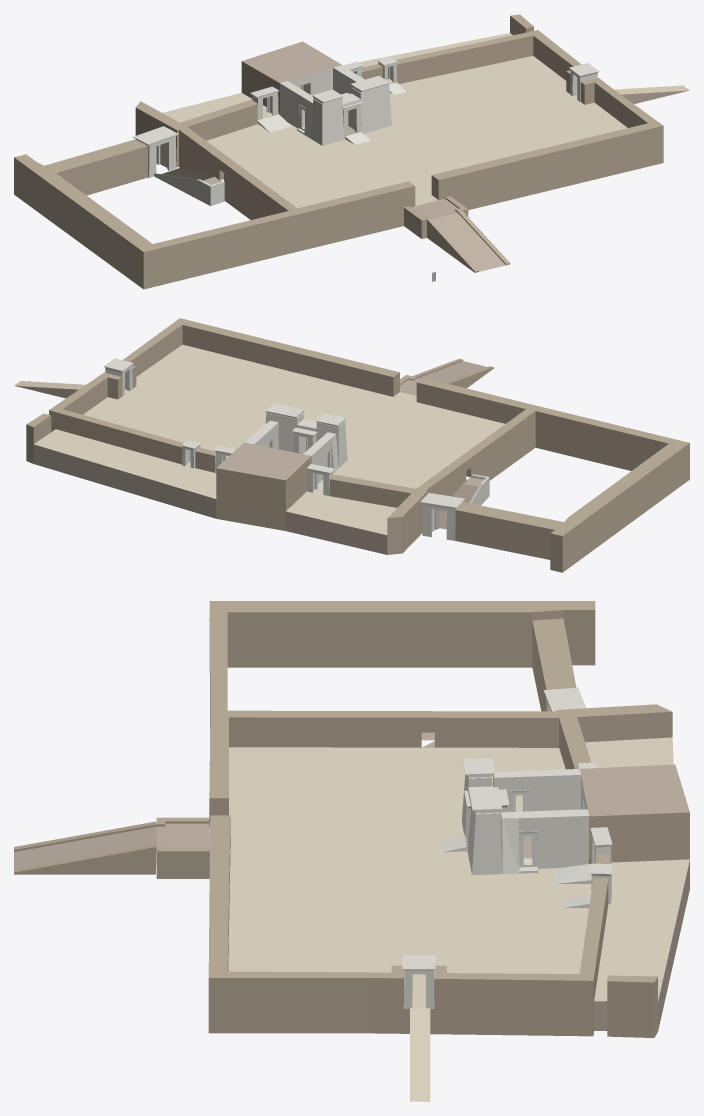
The model's file is SAN2.glb.
The picture shows the model from 3 angles, top to bottom: view 1: azimuth 30°, elevation 25°; view 2: azimuth 150°, elevation 25°; view 3: azimuth 270°, elevation 25°; orthographic projection. The views are drawn at different scales.
Parts seen in each view (by area): view 1: Mesh15 Model, Mesh5 Component_1_1 Model, Mesh13 Component_5_1 Model, Mesh3 Gate2_2_1 Model, Mesh12 Component_5_1 Model, Mesh14 Gate2_3_5 Model, Mesh2 Gate2_1_1 Model, Mesh6 Gate2_3_2 Model; view 2: Mesh15 Model, Mesh3 Gate2_2_1 Model, Mesh5 Component_1_1 Model, Mesh12 Component_5_1 Model, Mesh13 Component_5_1 Model, Mesh14 Gate2_3_5 Model, Mesh2 Gate2_1_1 Model, Mesh6 Gate2_3_2 Model; view 3: Mesh15 Model, Mesh12 Component_5_1 Model, Mesh14 Gate2_3_5 Model, Mesh3 Gate2_2_1 Model, Mesh10 Component_4_1 Component_5_1 Model.
Boxes of the visible parts, left/top/right/bottom form: Mesh15 Model: left=14, top=14, right=689, bottom=289; Mesh5 Component_1_1 Model: left=154, top=168, right=224, bottom=206; Mesh13 Component_5_1 Model: left=310, top=99, right=343, bottom=145; Mesh3 Gate2_2_1 Model: left=133, top=126, right=178, bottom=177; Mesh12 Component_5_1 Model: left=351, top=85, right=391, bottom=133; Mesh14 Gate2_3_5 Model: left=569, top=63, right=599, bottom=101; Mesh2 Gate2_1_1 Model: left=250, top=86, right=279, bottom=119; Mesh6 Gate2_3_2 Model: left=341, top=92, right=363, bottom=136; Mesh15 Model: left=14, top=318, right=689, bottom=572; Mesh3 Gate2_2_1 Model: left=420, top=493, right=464, bottom=540; Mesh5 Component_1_1 Model: left=439, top=474, right=489, bottom=529; Mesh12 Component_5_1 Model: left=265, top=413, right=303, bottom=452; Mesh13 Component_5_1 Model: left=316, top=422, right=347, bottom=467; Mesh14 Gate2_3_5 Model: left=103, top=358, right=133, bottom=396; Mesh2 Gate2_1_1 Model: left=306, top=464, right=334, bottom=495; Mesh6 Gate2_3_2 Model: left=292, top=427, right=317, bottom=453; Mesh15 Model: left=14, top=601, right=689, bottom=1101; Mesh12 Component_5_1 Model: left=467, top=803, right=502, bottom=874; Mesh14 Gate2_3_5 Model: left=402, top=955, right=435, bottom=1008; Mesh3 Gate2_2_1 Model: left=543, top=687, right=585, bottom=711; Mesh10 Component_4_1 Component_5_1 Model: left=468, top=787, right=502, bottom=814.
Size of the model in its own units: 112 by 10.53 by 71.8.
